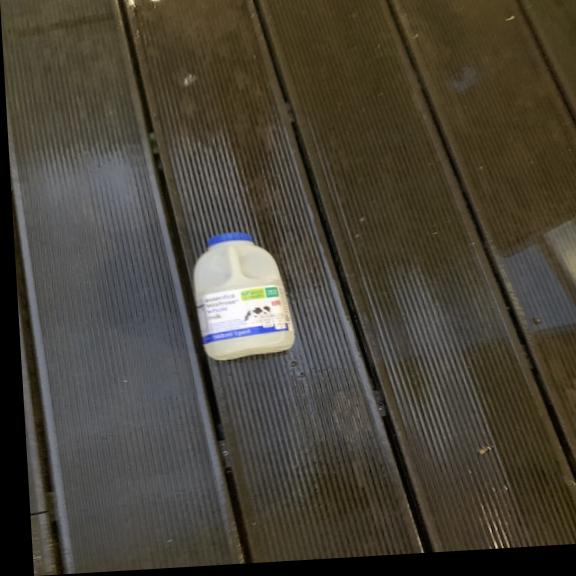Plastik: (191, 226, 301, 361)
